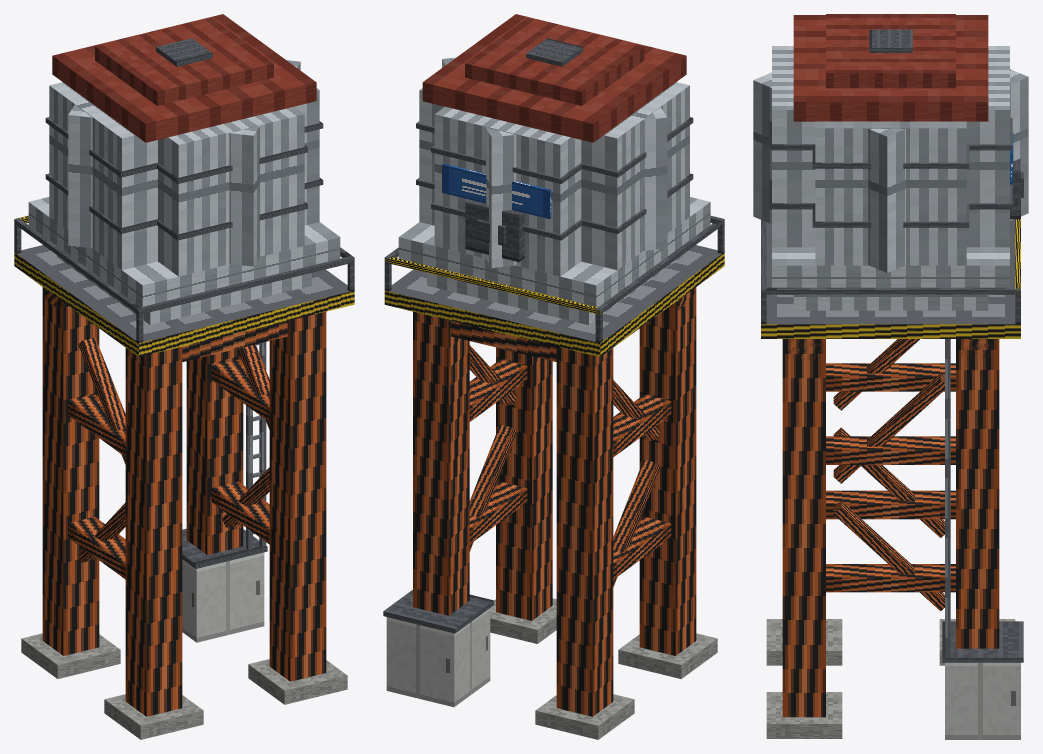
The model's file is bulk_loader.obj.
3 views of the same model, side by side, from view 1: azimuth 30°, elevation 25°; view 2: azimuth 150°, elevation 25°; view 3: azimuth 270°, elevation 25° (orthographic). The views are drawn at different scales.
Parts seen in each view (by area): view 1: leg_br, leg_bl, leg_fr, silo_a, silo_b, deck, roof, leg_fl, roof2, bin_2, silo_c, footing (+13 smaller); view 2: leg_fr, leg_br, leg_fl, silo_b, leg_bl, silo_a, deck, roof, roof2, bin_2, cabinet, girder (+13 smaller); view 3: leg_bl, silo_b, leg_fl, silo_a, girder, roof, silo_c, deck, roof2, bin_2, diag, cabinet (+8 smaller).
Part boxes in pixels (x1,y1,x2,y2): leg_br: (125,347,182,716); leg_bl: (269,311,326,681); leg_fr: (42,287,99,655); silo_a: (158,106,304,276); silo_b: (49,82,319,269); deck: (14,245,354,356); roof: (52,14,316,142); leg_fl: (186,349,243,554); roof2: (95,18,273,105); bin_2: (28,197,340,306); silo_c: (68,60,300,266); footing: (21,633,347,739); leg_fr: (556,347,613,716); leg_br: (639,287,696,655); leg_fl: (413,311,469,615); silo_b: (419,82,689,269); leg_bl: (496,347,552,620); silo_a: (434,106,581,276); deck: (384,245,724,356); roof: (422,14,686,142); roof2: (465,18,644,105); bin_2: (398,197,710,306); cabinet: (386,608,490,707); girder: (469,359,671,579); leg_bl: (782,339,825,717); silo_b: (815,121,966,265); leg_fl: (956,339,999,648); silo_a: (772,46,1009,247); girder: (826,363,955,592); roof: (793,15,988,121); silo_c: (753,69,1028,272); deck: (761,219,1020,338); roof2: (826,14,955,88); bin_2: (772,247,1009,294); diag: (833,339,944,611); cabinet: (945,662,1020,739).
Size of the model in its own units: 3.18 by 8.25 by 3.18.
